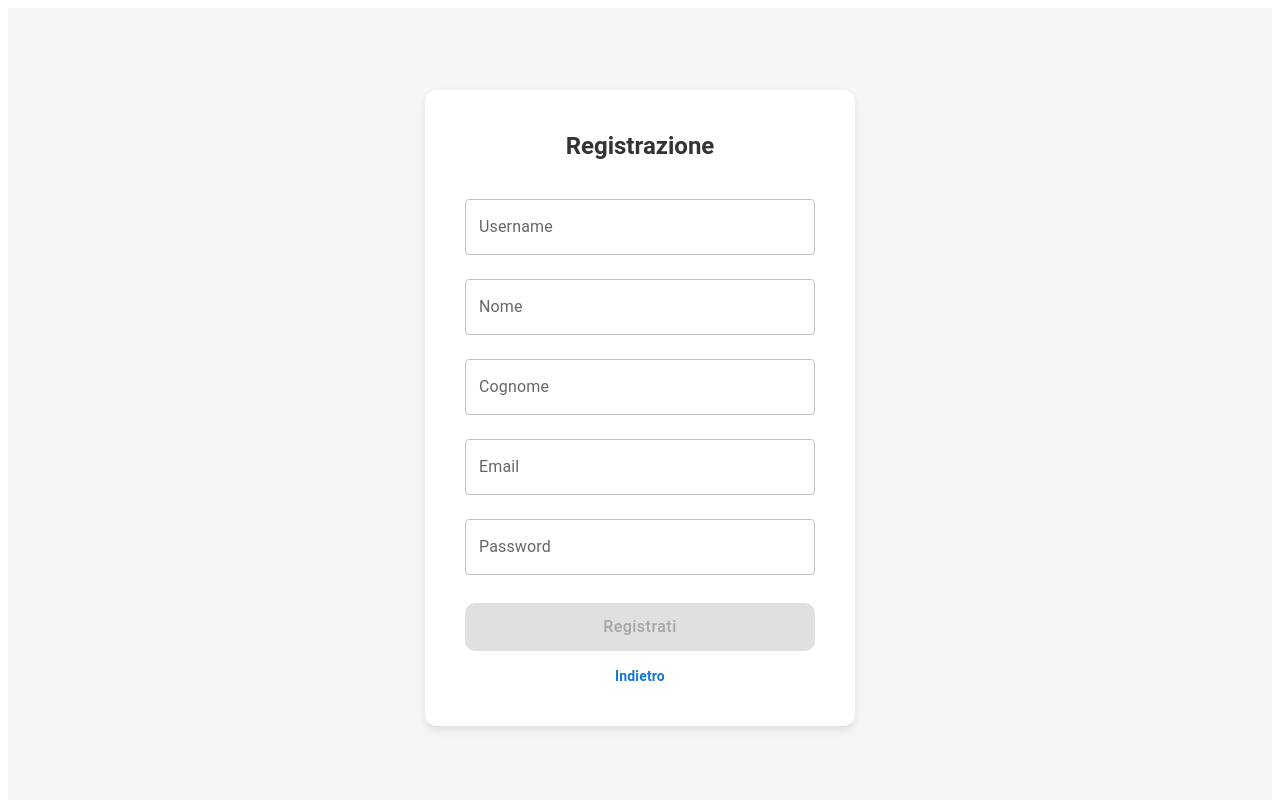
Test: Register Component › should enable button when all fields are filled
This screenshot has width=1280, height=800.
In the field labelled "Username": [640, 226] box [465,198,815,254], type "testuser"
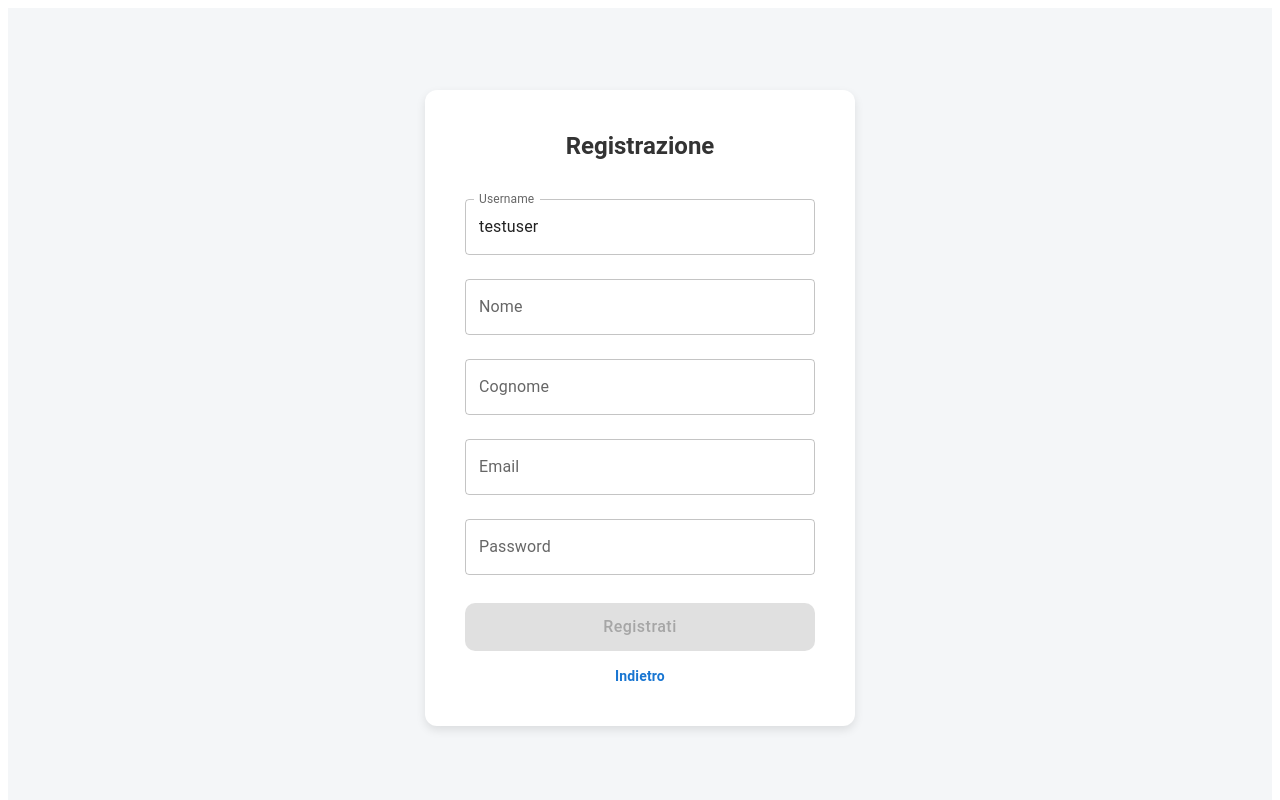
In the field labelled "Nome": [640, 306] box [465,278,815,334], type "Test"
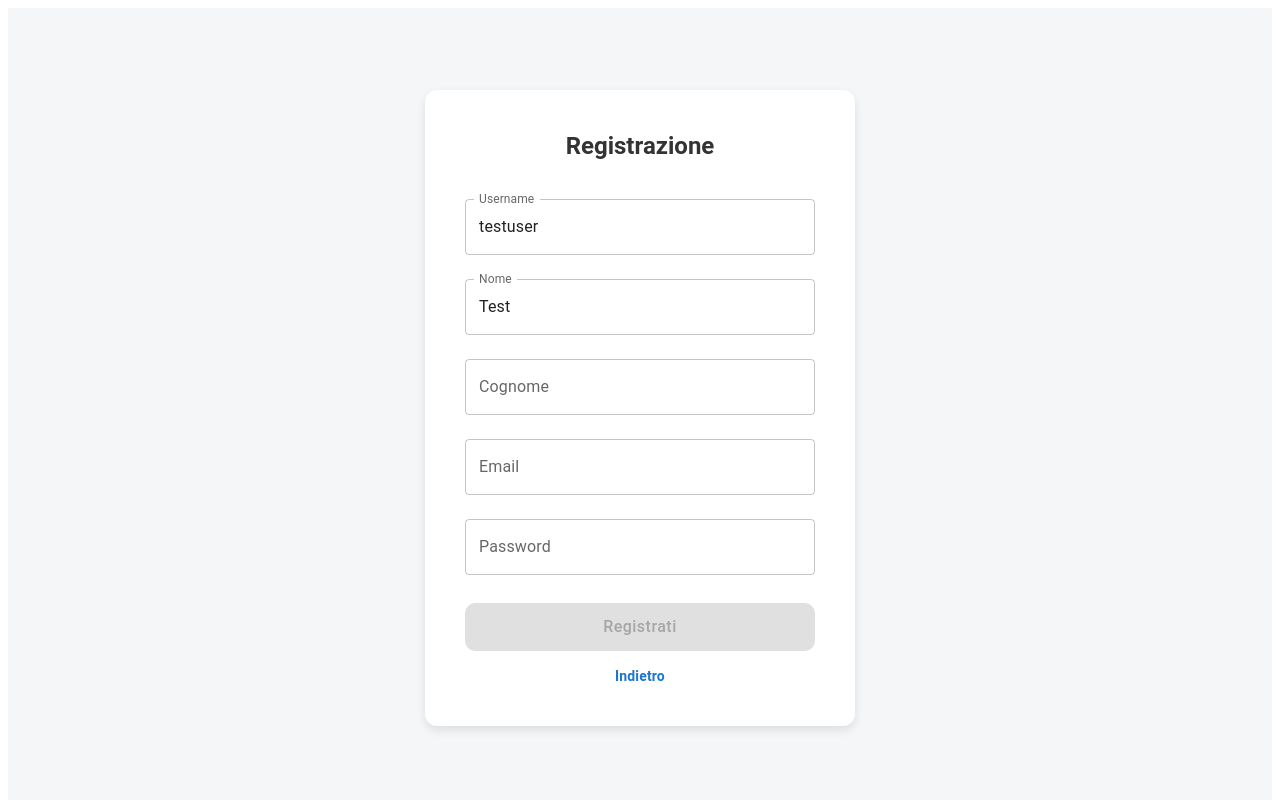
In the field labelled "Cognome": [640, 386] box [465,358,815,414], type "Rossi"
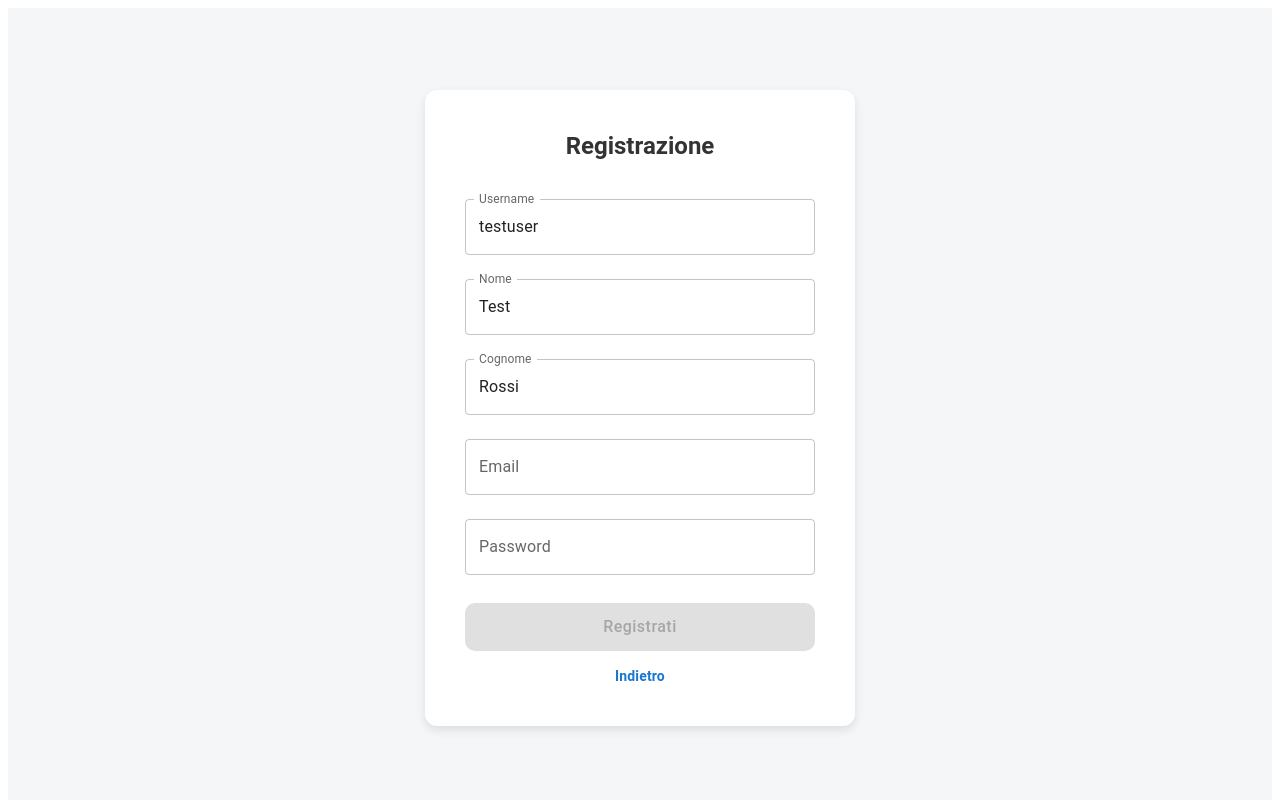
In the field labelled "Email": [640, 466] box [465,438,815,494], type "mario.rossi@example.com"
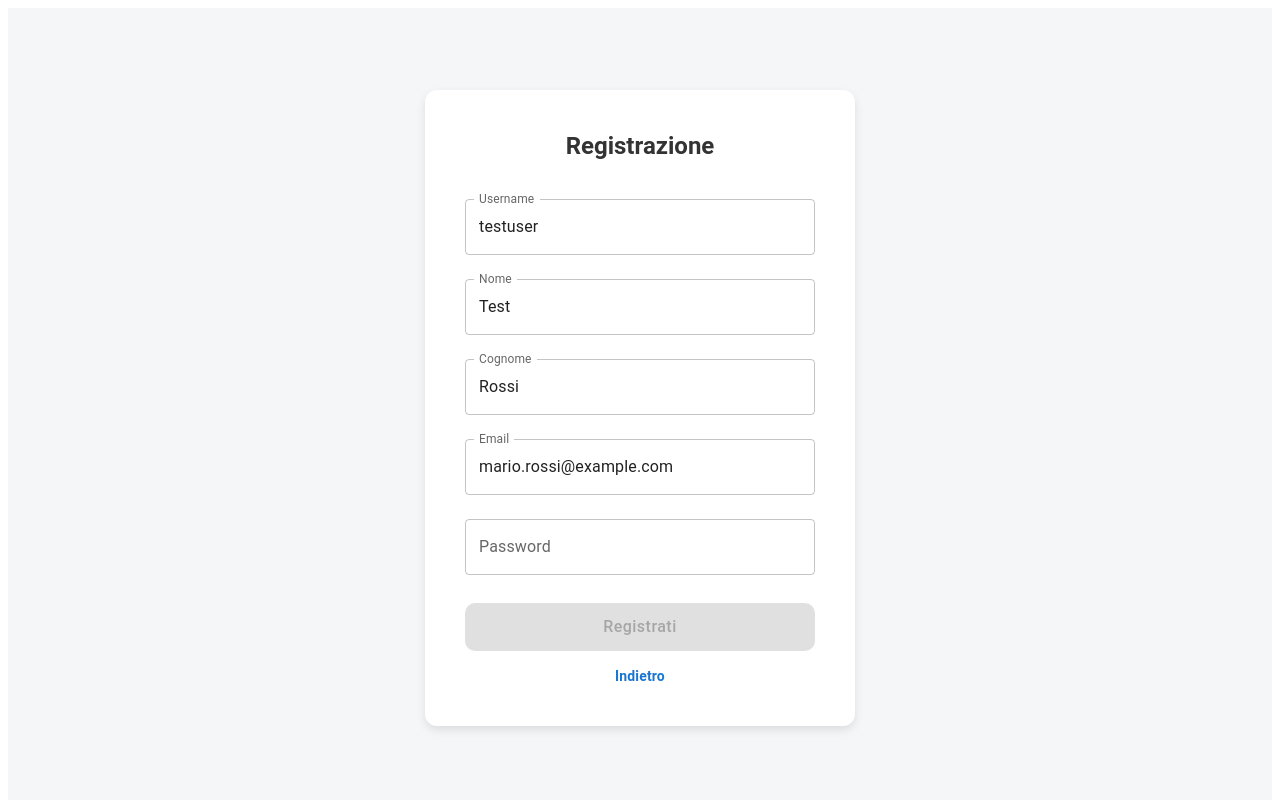
In the password field labelled "Password": [640, 546] box [465,518,815,574], type "password123"
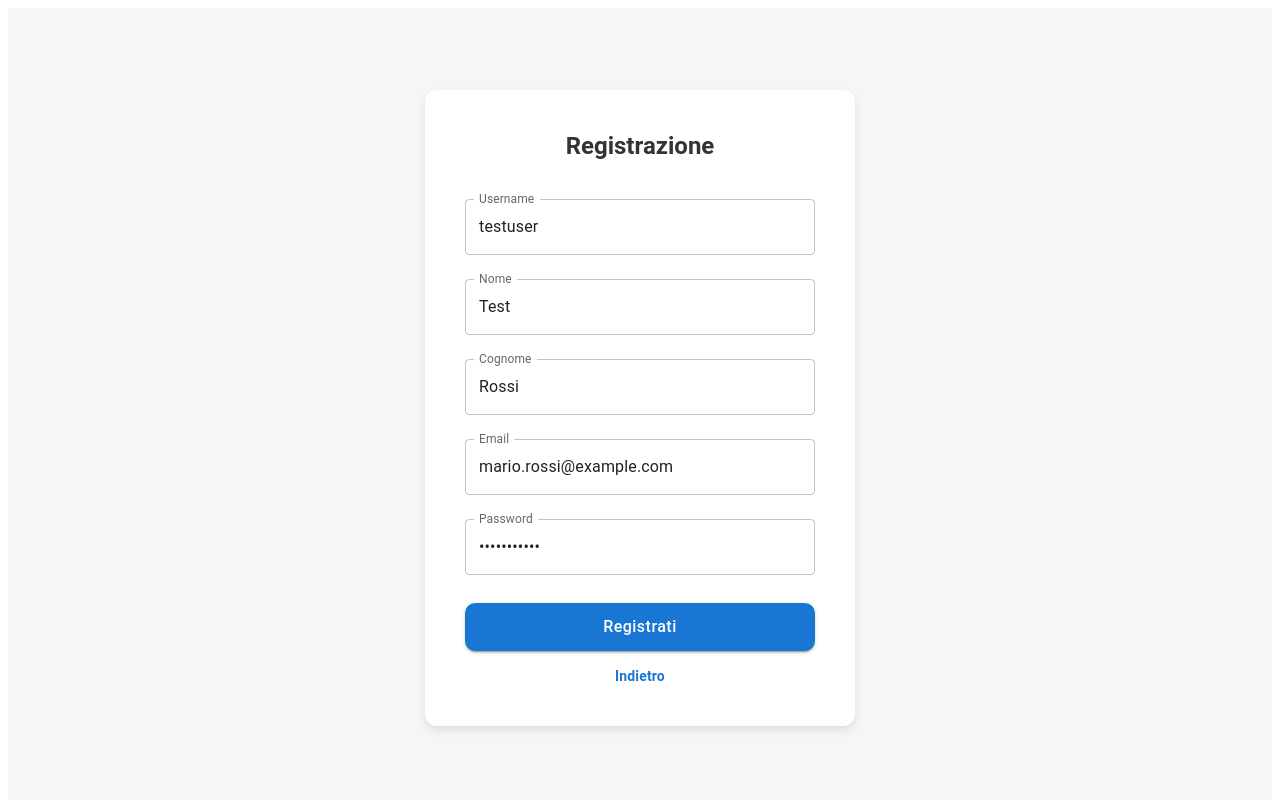
Expected: the button "Registrati" is enabled, [465,602,815,650]
